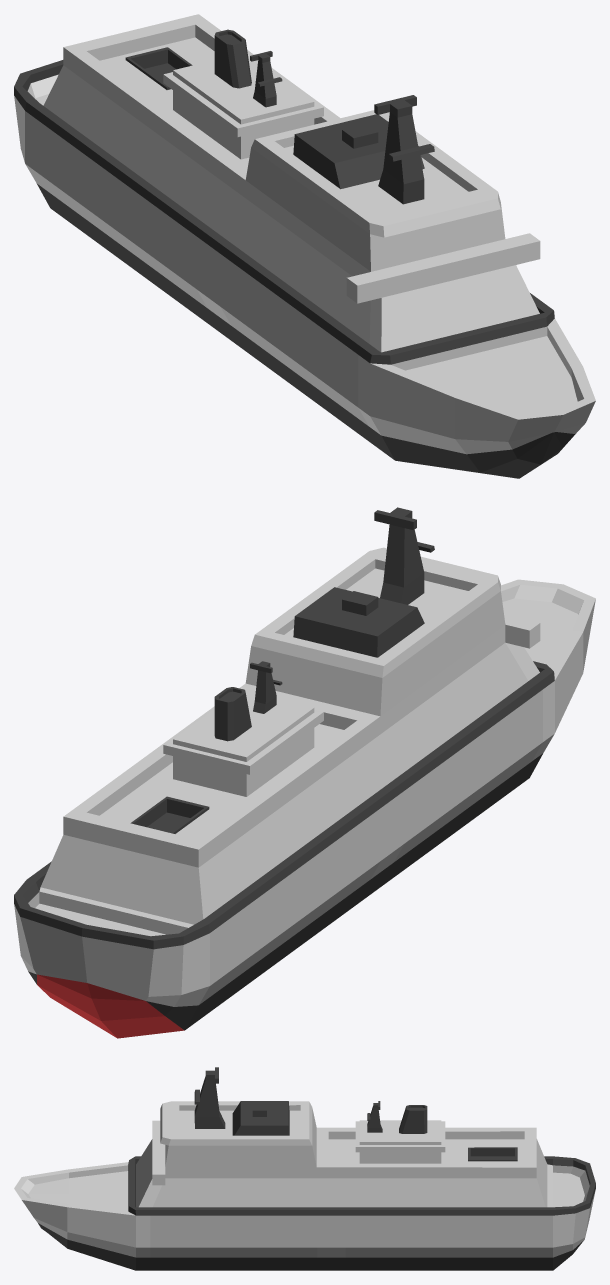
File: CruiseShip.glb
The picture shows the model from 3 angles, top to bottom: view 1: azimuth 30°, elevation 25°; view 2: azimuth 150°, elevation 25°; view 3: azimuth 270°, elevation 25°; orthographic projection. The views are drawn at different scales.
Parts seen in each view (by area): view 1: CruiseShip_Cube; view 2: CruiseShip_Cube; view 3: CruiseShip_Cube.
Boxes of the visible parts, x1,y1,x2,y2 form: CruiseShip_Cube: (14, 14, 595, 478); CruiseShip_Cube: (14, 507, 595, 1038); CruiseShip_Cube: (14, 1067, 595, 1270).
Size of the model in its own units: 4 by 6.6 by 18.05.
